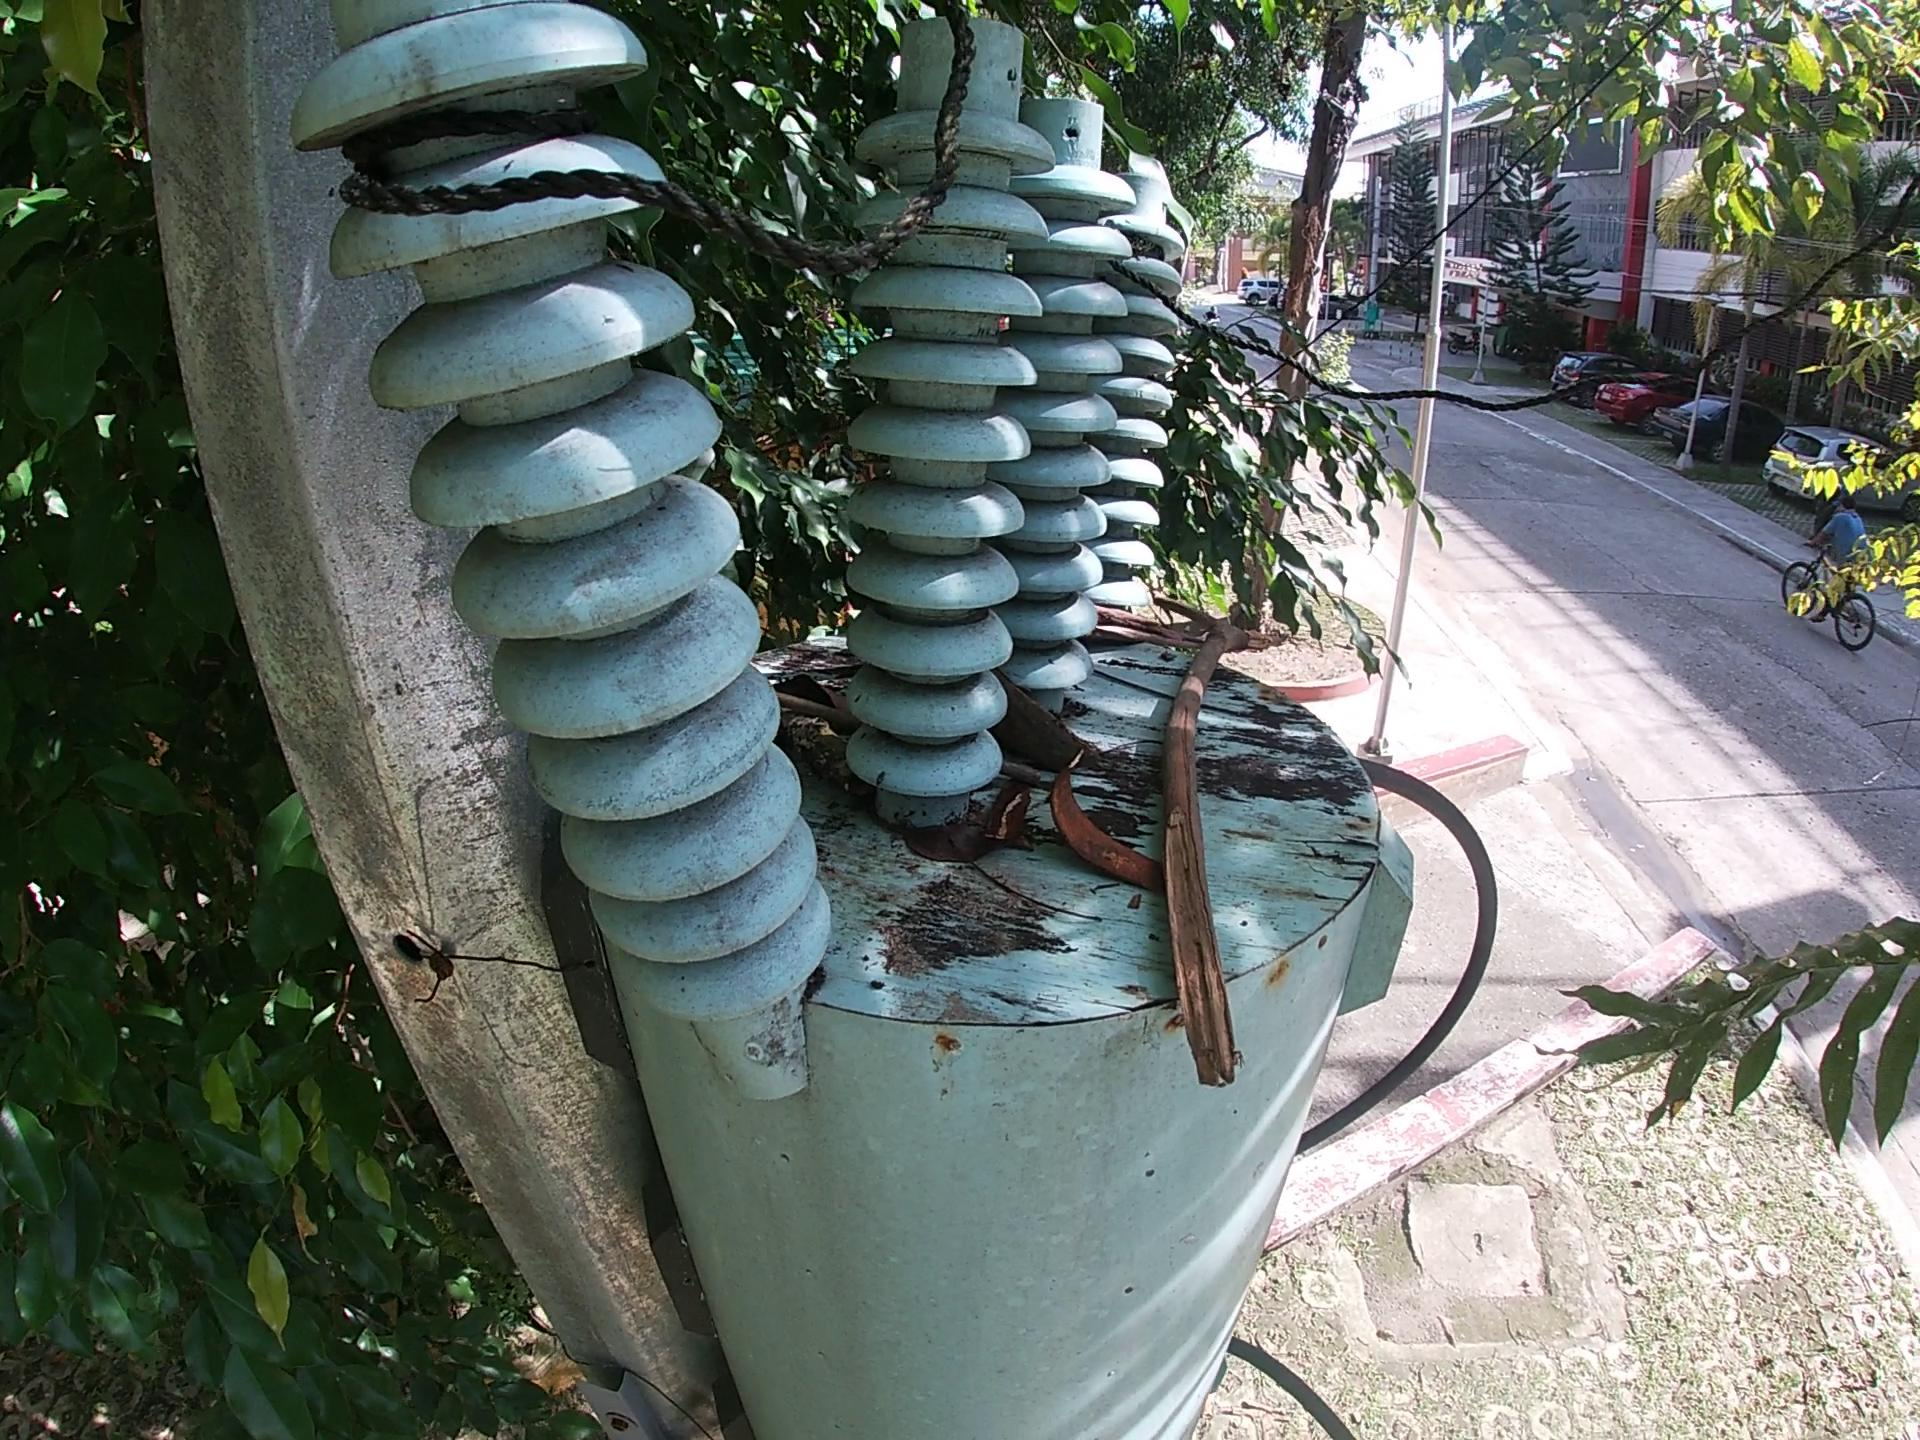leaf: (889, 818, 974, 852)
mahogany fruit: (1039, 762, 1157, 921), (996, 681, 1116, 784)
tree branch: (1163, 570, 1299, 1127), (957, 861, 1107, 936), (1101, 675, 1270, 728), (776, 697, 851, 774), (1096, 607, 1199, 650), (981, 777, 1042, 852), (776, 687, 860, 725)
